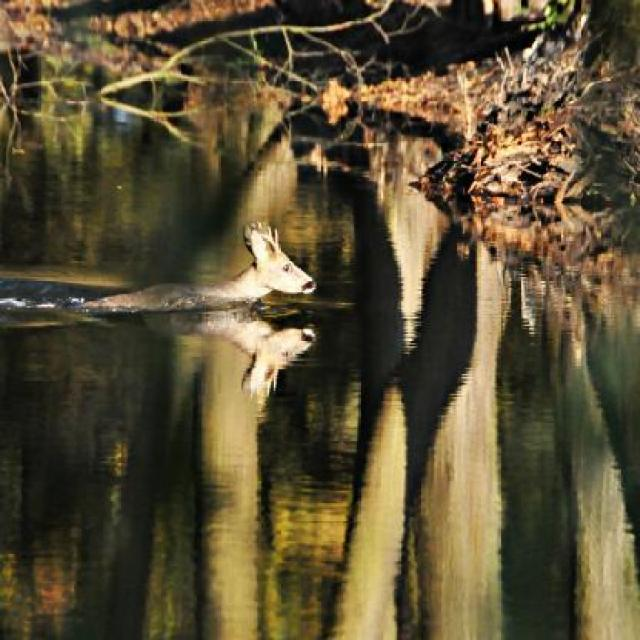Deer: (75, 220, 318, 314)
